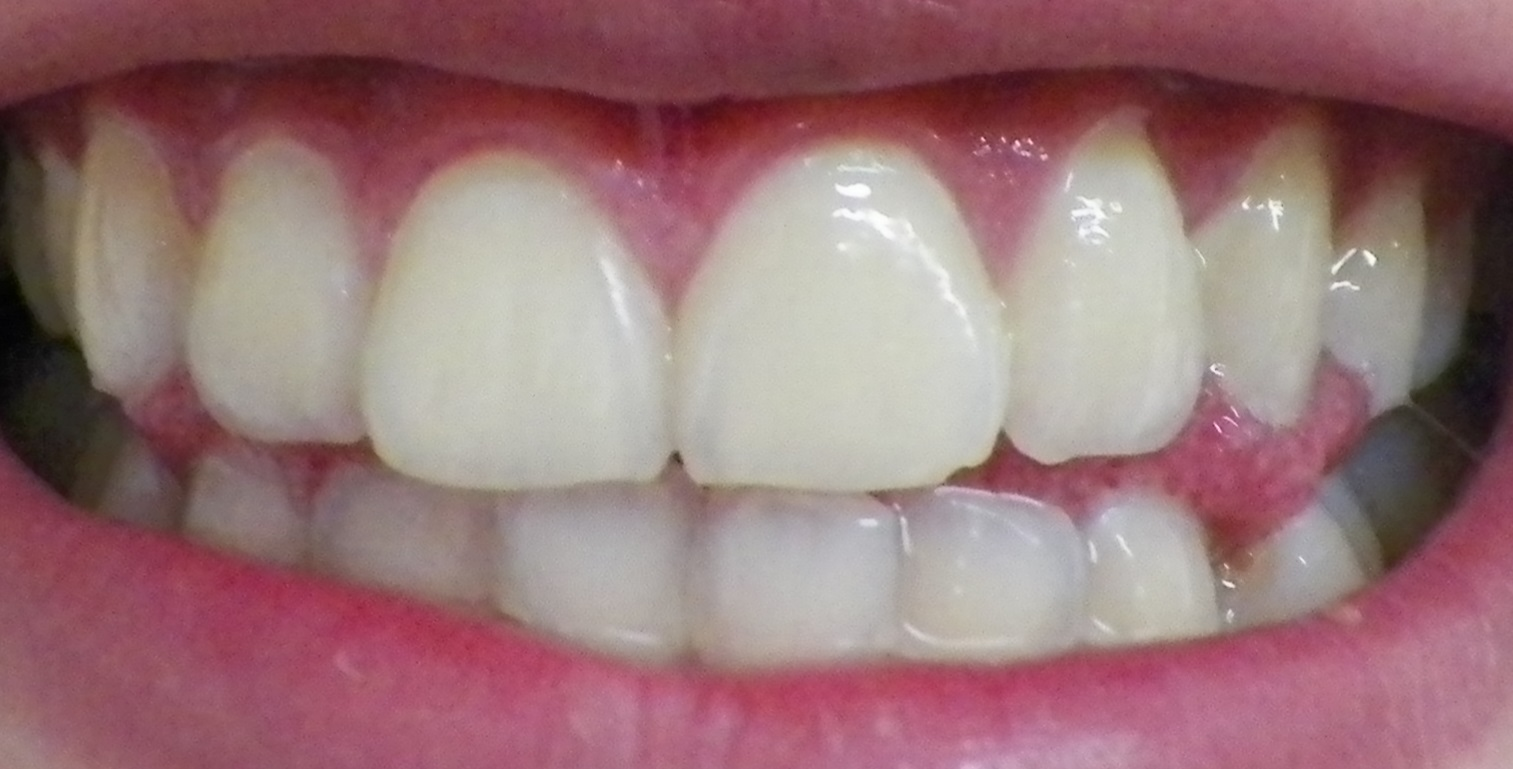boca: (7, 111, 1483, 662)
